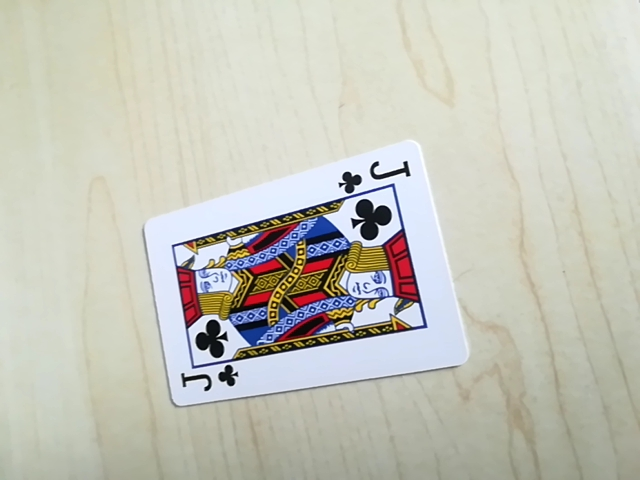mh j: (174, 359, 243, 401), (334, 158, 414, 194)
